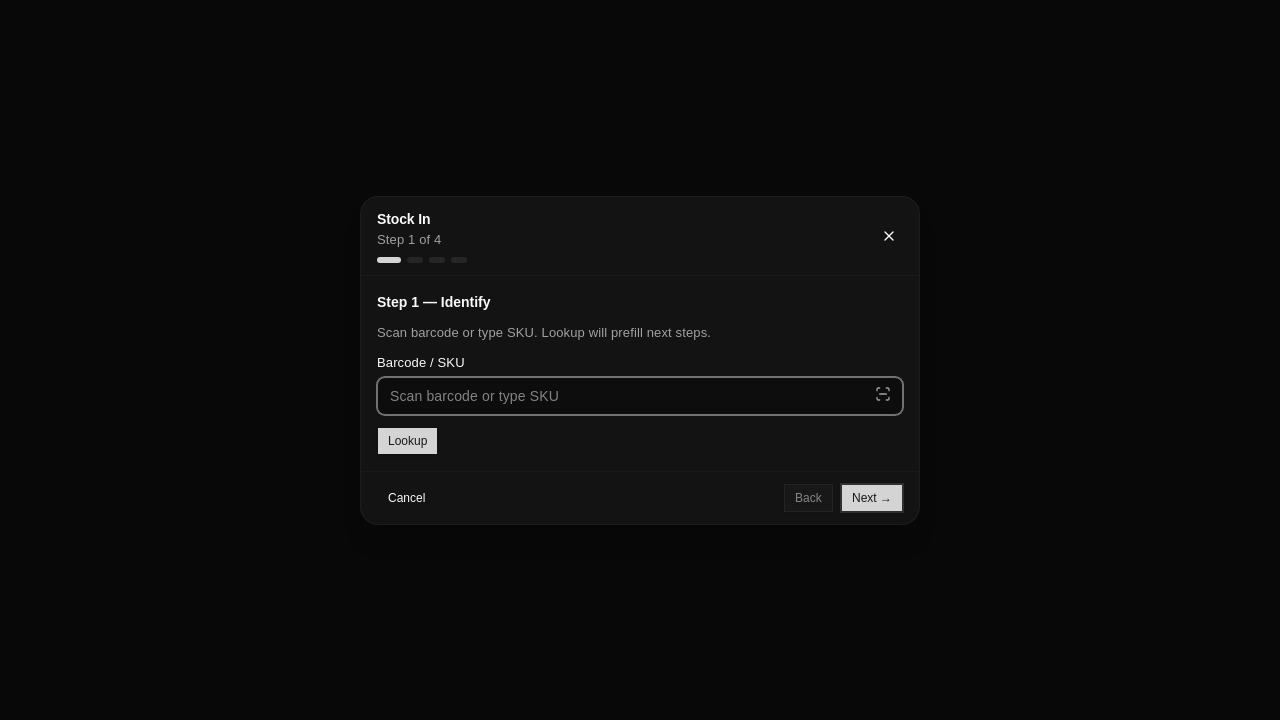
StockInWizard — supplier UI removed, still proceed without it › does not render supplier UI (optional UI removed)
In the field with placeholder "Scan barcode or type SKU": (640, 395) [377,376,903,414], type "SKU-001"
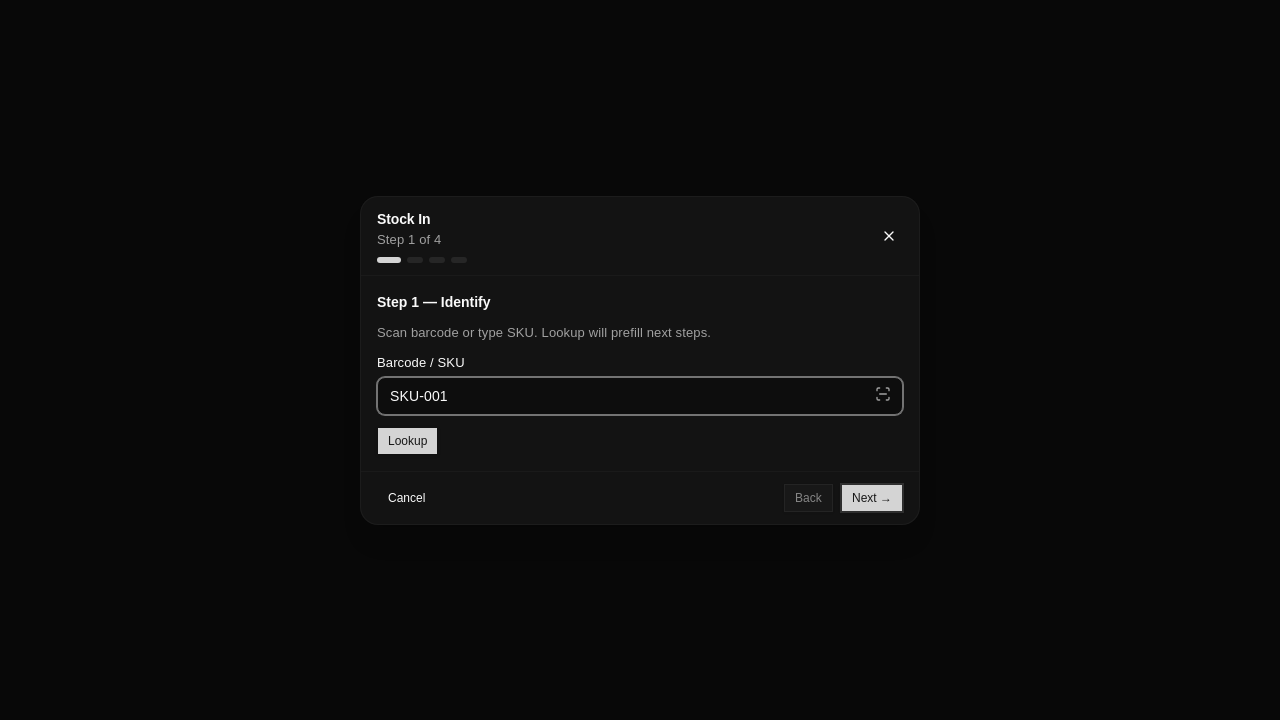
Click the button "Next →": (872, 497) [841,483,903,511]
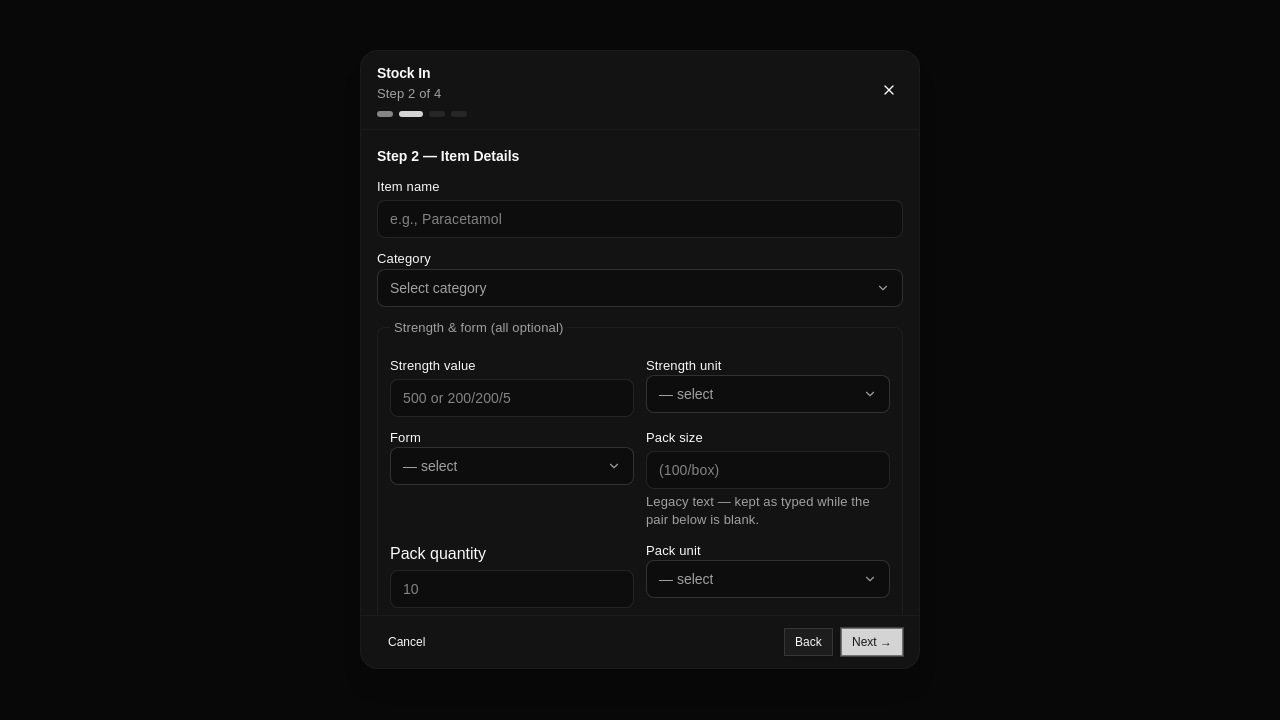
Expected: the heading "Step 2 — Item Details" is shown, [377,149,519,165]
In the field with placeholder "e.g., Paracetamol": (640, 220) [377,201,903,239], type "Paracetamol 500mg"
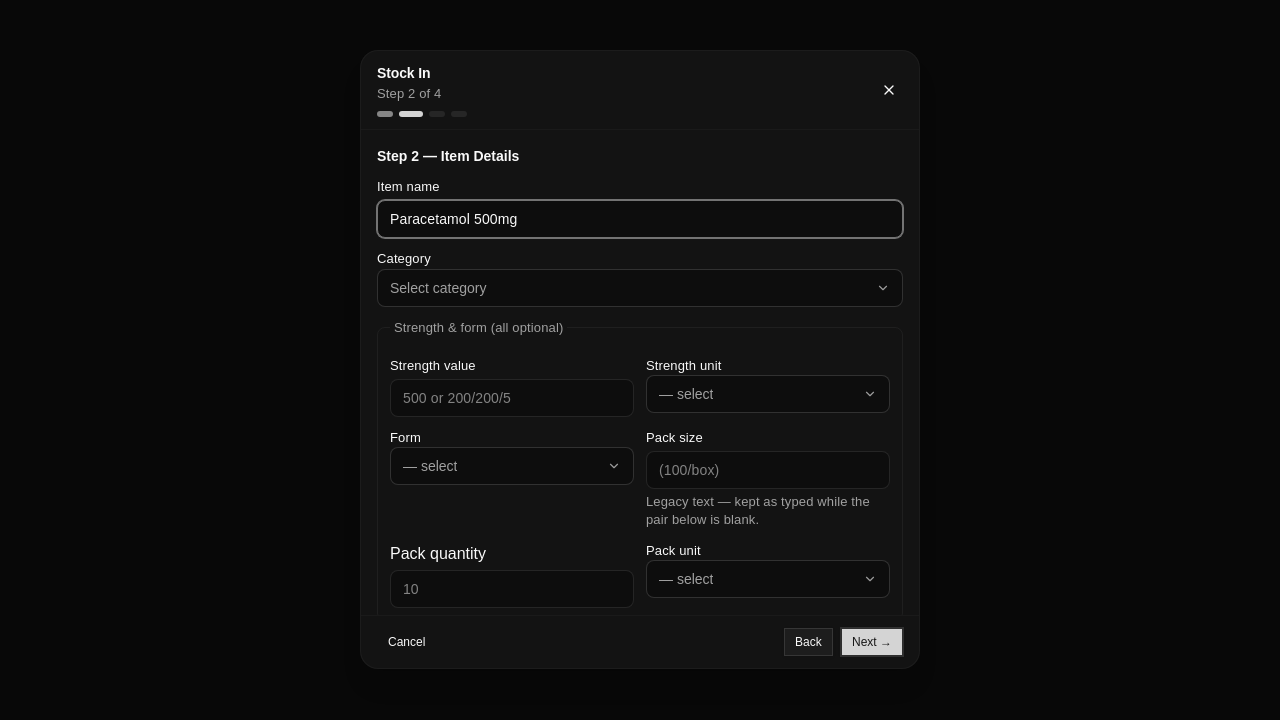
Expected: the button labelled "Select category" is shown
Click the button "Select category": (438, 288) [377,269,903,307]
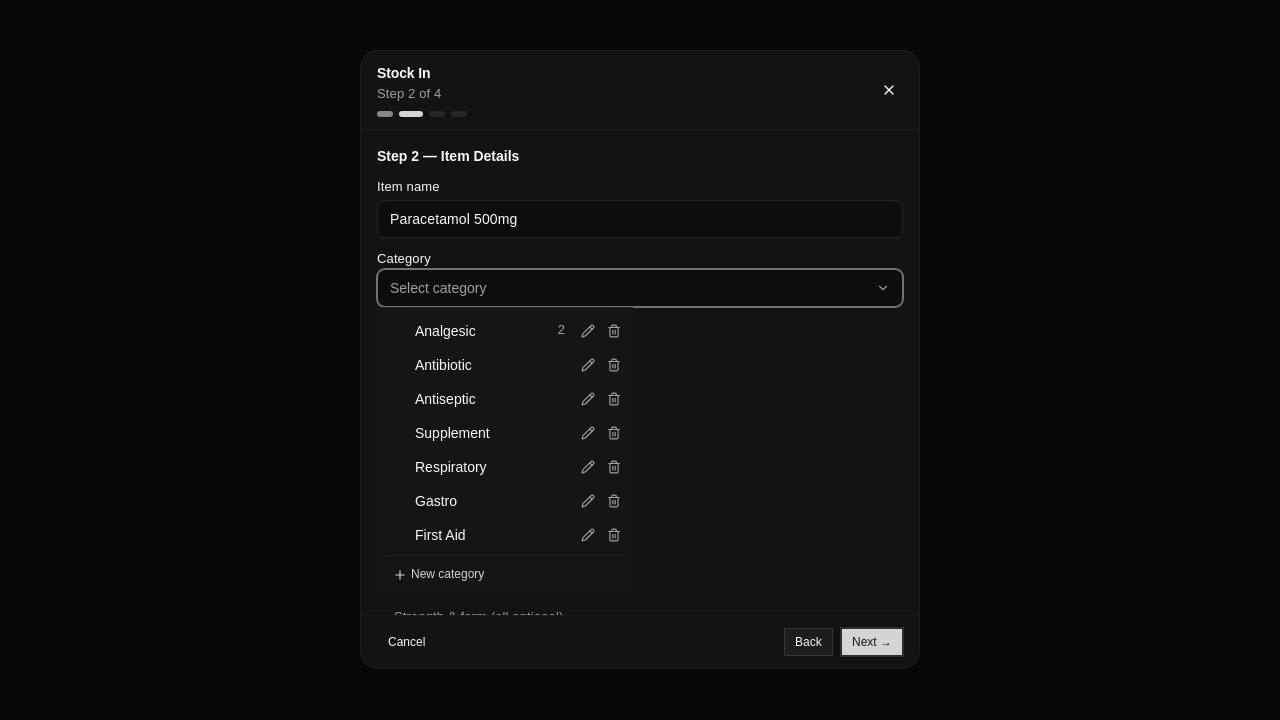
Click the button "Analgesic 2": (479, 331) [385,315,573,347]
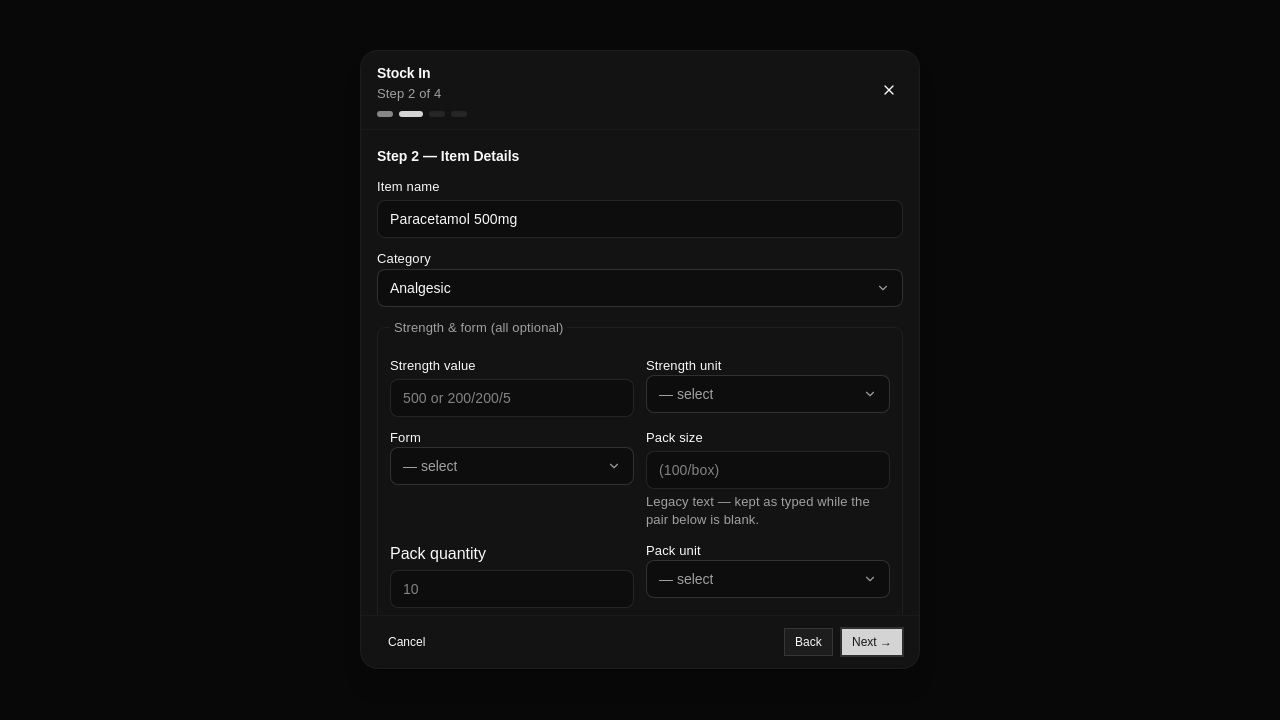
Click the button "Next →": (872, 643) [841,629,903,657]
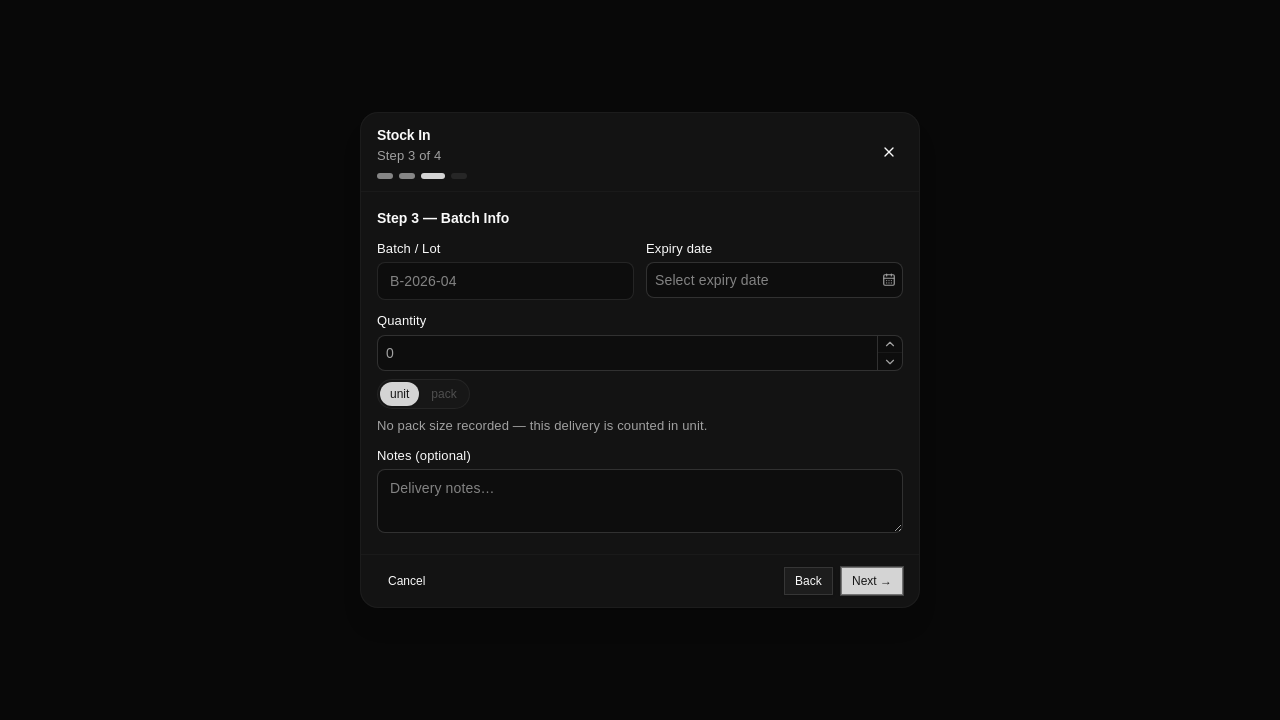
Expected: the heading "Step 3 — Batch Info" is shown, [377,210,509,226]
